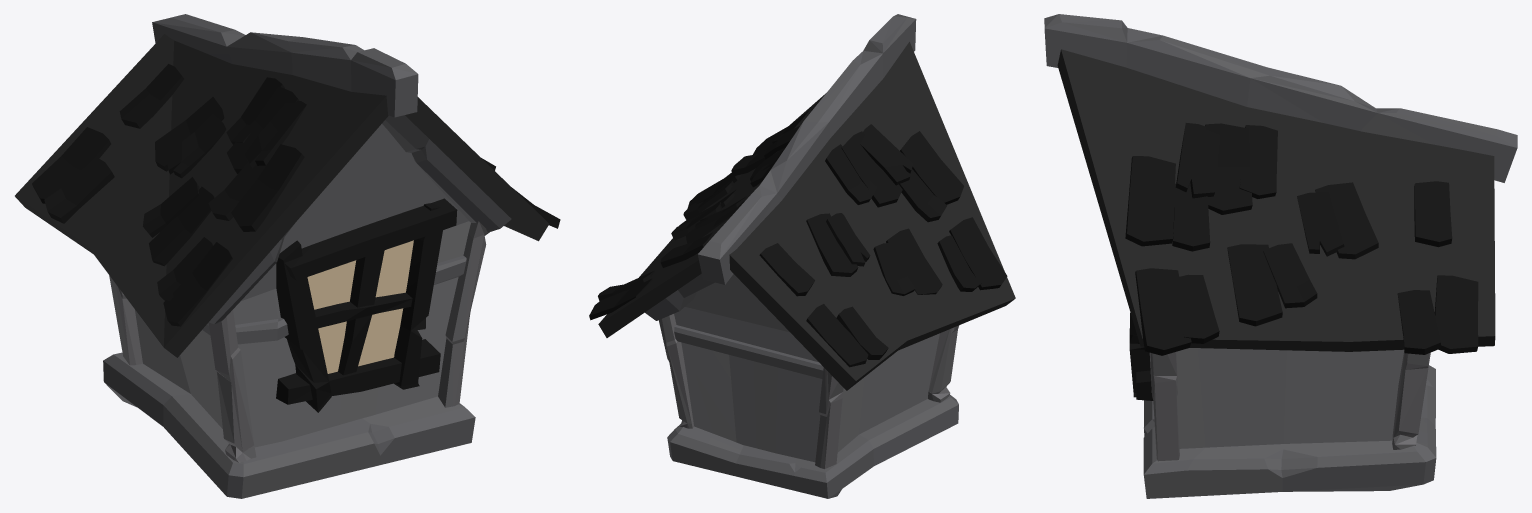
Rendered from WF_LP_HT_Build_Window.002.fbx.
3 views of the same model, side by side, from view 1: azimuth 30°, elevation 25°; view 2: azimuth 150°, elevation 25°; view 3: azimuth 270°, elevation 25° (orthographic). The views are drawn at different scales.
Visible parts, largest first — view 1: WF_LP_HT_Build_Window.002; view 2: WF_LP_HT_Build_Window.002; view 3: WF_LP_HT_Build_Window.002.
Part boxes in pixels (x1=…): WF_LP_HT_Build_Window.002: x1=15, y1=14, x2=560, y2=498; WF_LP_HT_Build_Window.002: x1=589, y1=14, x2=1015, y2=498; WF_LP_HT_Build_Window.002: x1=1044, y1=14, x2=1517, y2=498.
Bounding box in the file's own units: 1.64 × 1.74 × 1.74.
